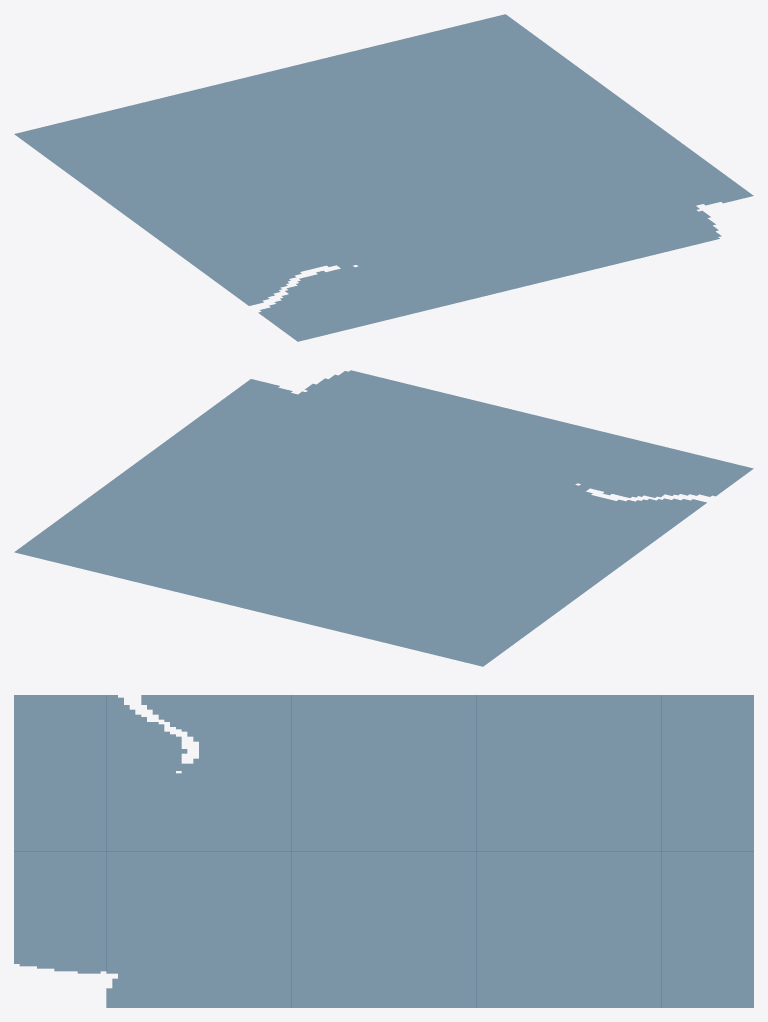
The model's file is chunk_6_0.glb.
The picture shows the model from 3 angles, top to bottom: view 1: azimuth 30°, elevation 25°; view 2: azimuth 150°, elevation 25°; view 3: azimuth 270°, elevation 25°; orthographic projection. The views are drawn at different scales.
Visible parts, largest first — view 1: Water_6_0; view 2: Water_6_0; view 3: Water_6_0.
Part boxes in pixels (x1,y1,x2,y2): Water_6_0: (14, 14, 753, 341); Water_6_0: (14, 370, 753, 666); Water_6_0: (14, 695, 753, 1007).
Size of the model in its own units: 2048 by 0.0112 by 2048.
